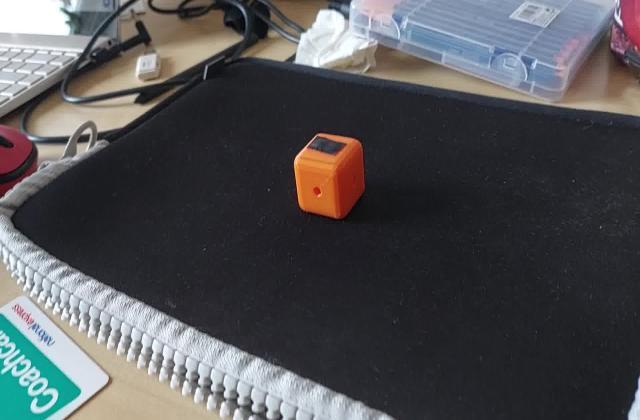black: (308, 134, 348, 156)
cube: (292, 134, 369, 222)
